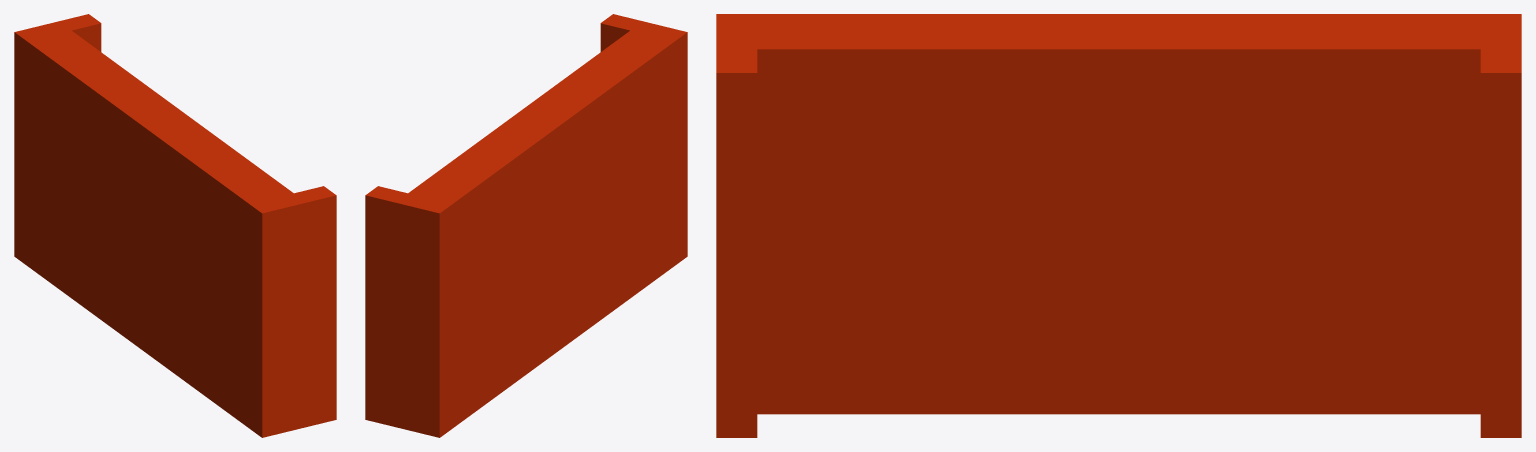
File: deployableCover.obj
The picture shows the model from 3 angles, left to right: view 1: azimuth 30°, elevation 25°; view 2: azimuth 150°, elevation 25°; view 3: azimuth 270°, elevation 25°; orthographic projection. The views are drawn at different scales.
Parts seen in each view (by area): view 1: Cube.001; view 2: Cube.001; view 3: Cube.001.
Part boxes in pixels (x1,y1,x2,y2): Cube.001: [14, 14, 336, 437]; Cube.001: [365, 14, 687, 437]; Cube.001: [716, 14, 1521, 437].
Size of the model in its own units: 0.1733 by 0.5 by 1.
